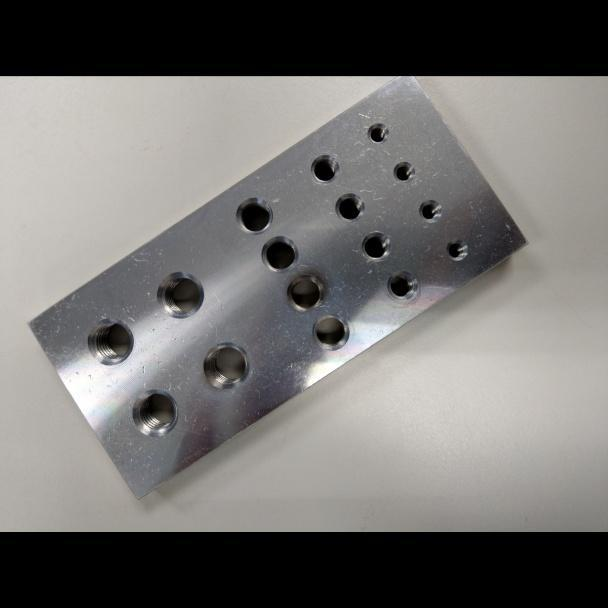hole: (155, 269, 206, 318), (131, 387, 179, 438), (86, 317, 135, 366), (202, 340, 250, 389), (260, 234, 300, 274), (285, 273, 326, 312), (234, 195, 273, 235), (311, 312, 349, 351), (360, 230, 393, 262), (386, 269, 418, 300), (333, 191, 365, 222), (309, 152, 340, 184), (417, 197, 443, 223), (444, 236, 468, 261), (366, 120, 391, 144), (391, 160, 416, 183)
